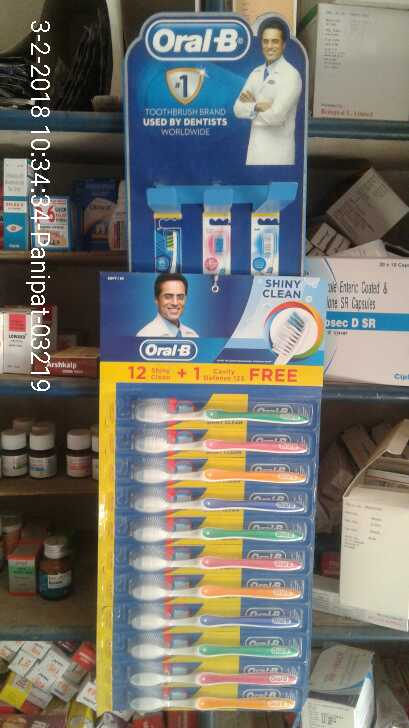oralb: (128, 392, 314, 432), (123, 544, 302, 583), (132, 596, 286, 638), (121, 427, 308, 458), (125, 511, 295, 543), (107, 577, 288, 607), (126, 489, 309, 518), (131, 688, 283, 722), (140, 463, 314, 489), (129, 667, 308, 690), (129, 644, 298, 662)
